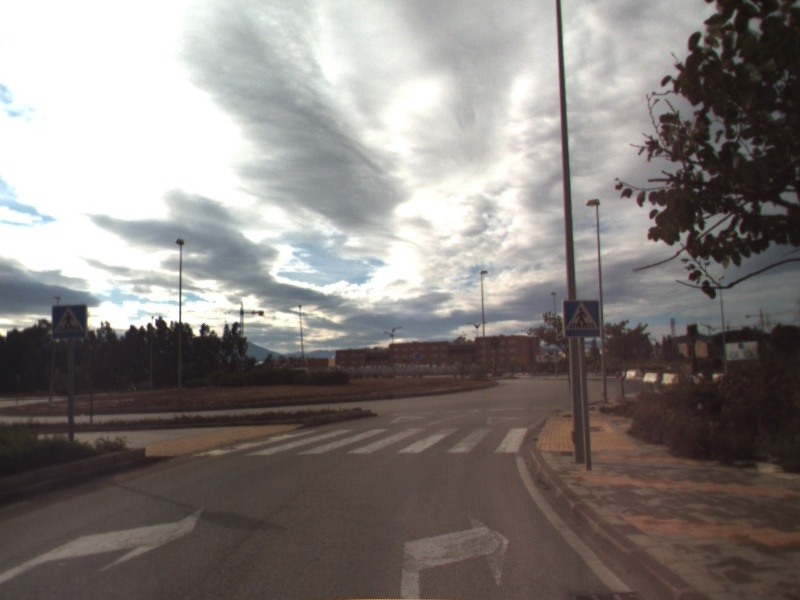RIGHT: (1, 502, 207, 588), (396, 510, 512, 600)
